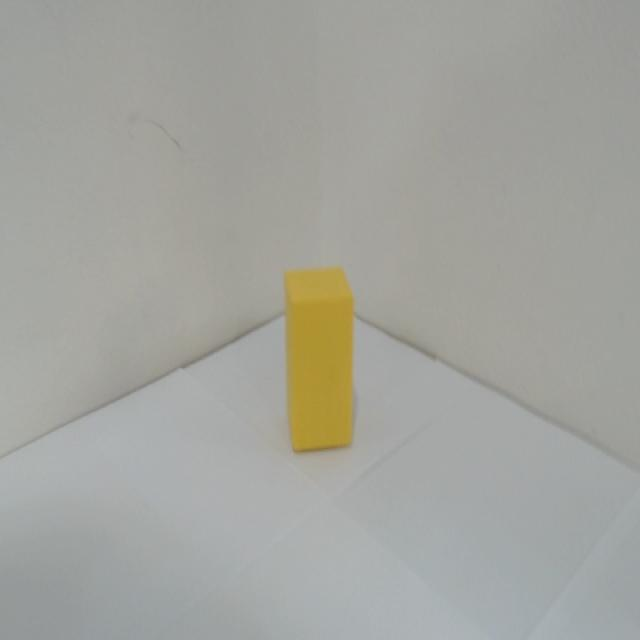cube: (281, 264, 362, 465)
